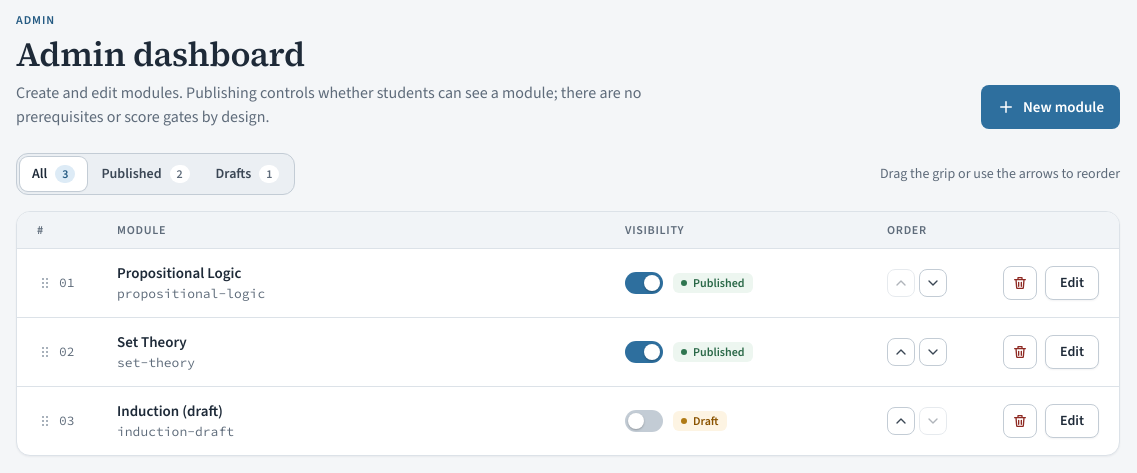
Test case: AdminDashboard › narrows the table when the Drafts filter is chosen
Expected: the text "Set Theory" is shown, [117,332,187,352]
What coordinates should you click on to do the following:
click the button "Drafts 1"
I would click on:
 (247, 174)
Its box is [204,157,291,191].
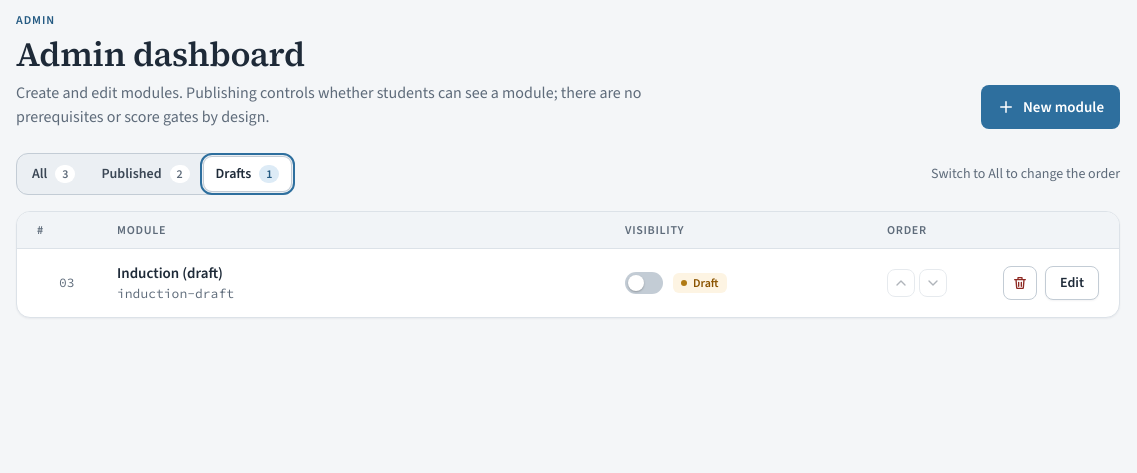
Expected: the text "Induction (draft)" is shown, [117,263,223,283]
Expected: the text "Set Theory" is gone
